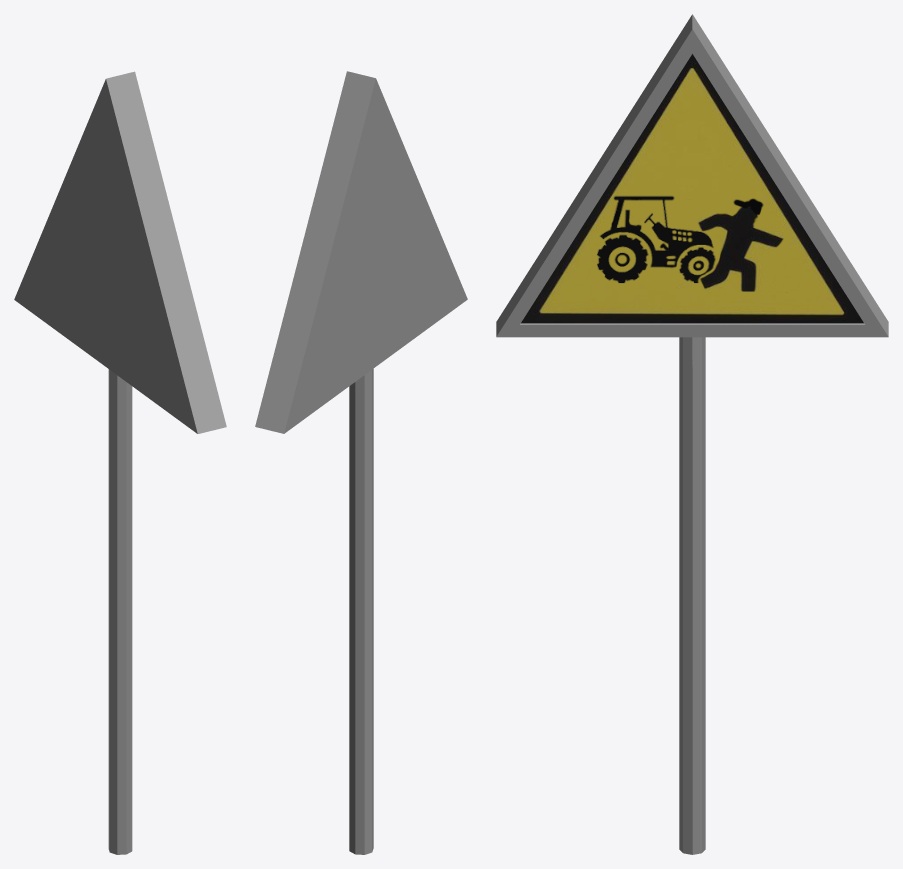
Rendered from SeñalAtropello.fbx.
The picture shows the model from 3 angles, left to right: view 1: azimuth 30°, elevation 25°; view 2: azimuth 150°, elevation 25°; view 3: azimuth 270°, elevation 25°; orthographic projection. The views are drawn at different scales.
Parts seen in each view (by area): view 1: Cylinder; view 2: Cylinder; view 3: SeñalAtropello, Cylinder.
Boxes of the visible parts, bbox=[...] form: Cylinder: bbox=[14, 71, 226, 854]; Cylinder: bbox=[255, 71, 467, 854]; SeñalAtropello: bbox=[521, 54, 863, 323]; Cylinder: bbox=[496, 14, 888, 854].
Size of the model in its own units: 20.82 by 531 by 228.
